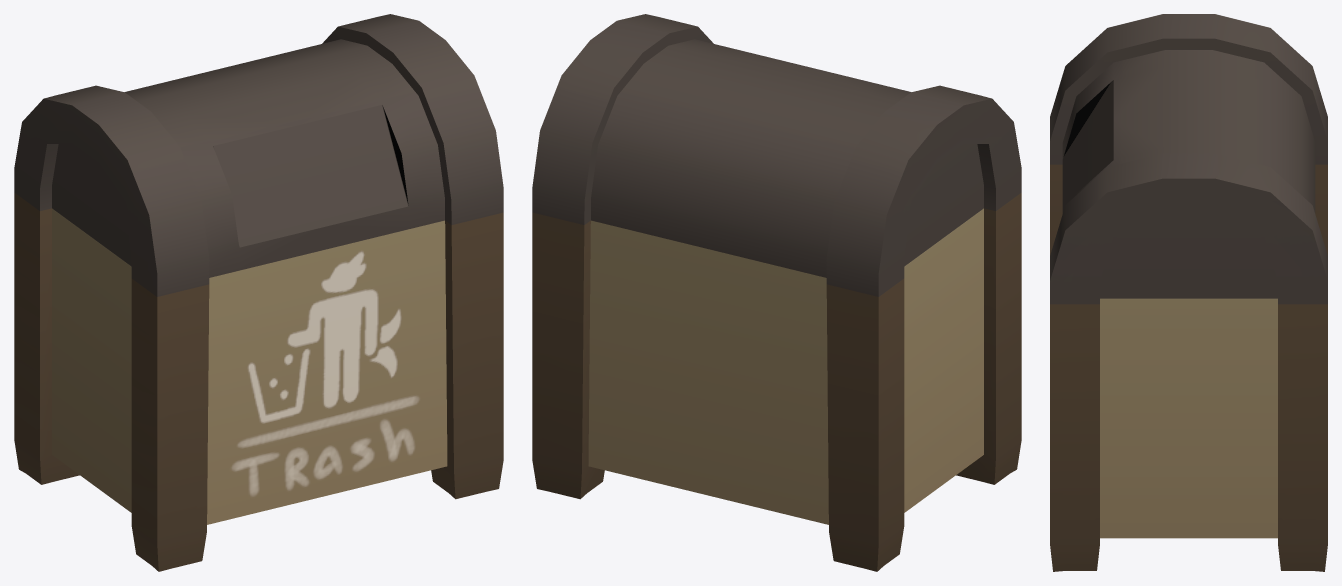
Rendered from Bins.fbx.
The picture shows the model from 3 angles, left to right: view 1: azimuth 30°, elevation 25°; view 2: azimuth 150°, elevation 25°; view 3: azimuth 270°, elevation 25°; orthographic projection. The views are drawn at different scales.
Parts seen in each view (by area): view 1: Bin; view 2: Bin; view 3: Bin.
Boxes of the visible parts, box(x1,y1,x2,y2) form: Bin: box(14, 14, 503, 571); Bin: box(532, 14, 1021, 571); Bin: box(1050, 14, 1327, 571).
Bounding box in the file's own units: 3.08 × 3.45 × 2.2.
Materials: 1 (1 with a texture image).
